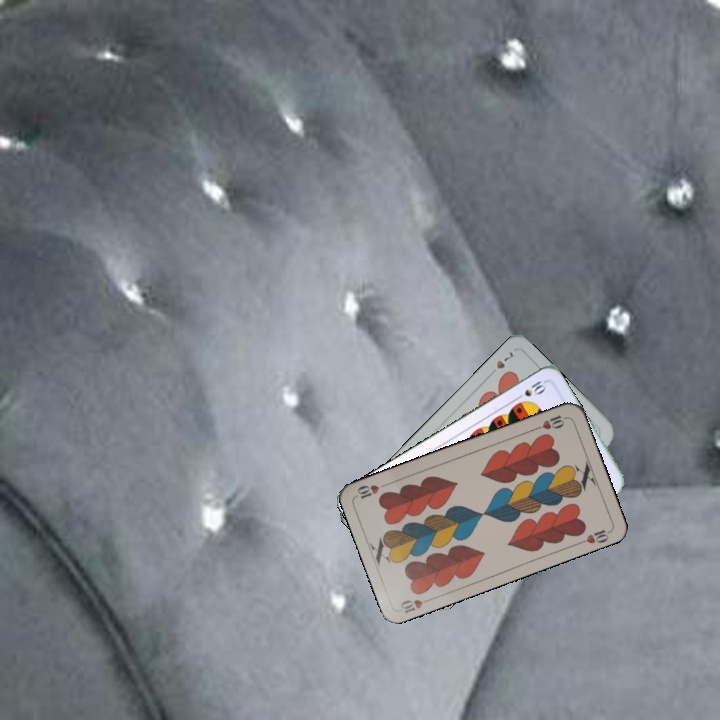H10: (396, 593, 436, 616), (530, 411, 569, 433)
H7: (486, 347, 516, 379)
S10: (511, 375, 549, 403)
